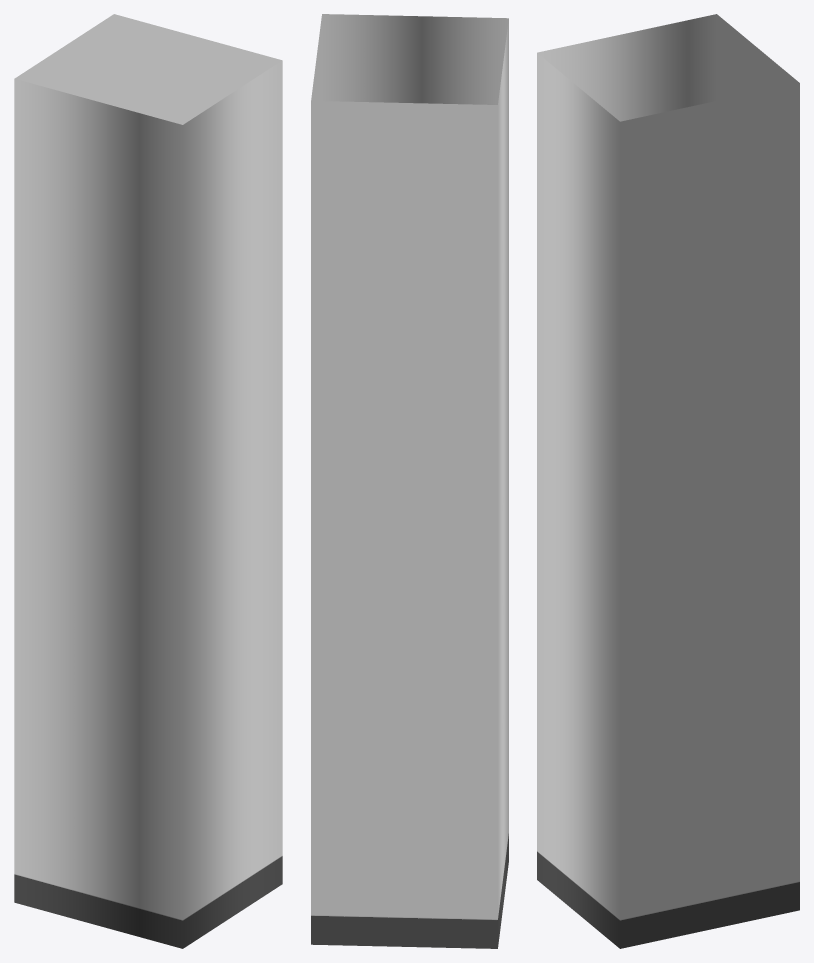
Rendered from SM_119_Floor02_Pillar1.fbx.
The picture shows the model from 3 angles, left to right: view 1: azimuth 30°, elevation 25°; view 2: azimuth 150°, elevation 25°; view 3: azimuth 270°, elevation 25°; orthographic projection. The views are drawn at different scales.
Visible parts, largest first — view 1: SM_119_Floor02_Pillar1; view 2: SM_119_Floor02_Pillar1; view 3: SM_119_Floor02_Pillar1.
Part boxes in pixels (x1=…): SM_119_Floor02_Pillar1: x1=14, y1=14, x2=282, y2=948; SM_119_Floor02_Pillar1: x1=311, y1=14, x2=508, y2=948; SM_119_Floor02_Pillar1: x1=537, y1=14, x2=799, y2=948.
Bounding box in the file's own units: 140 × 144 × 501.
Materials: 1 (1 with a texture image).
